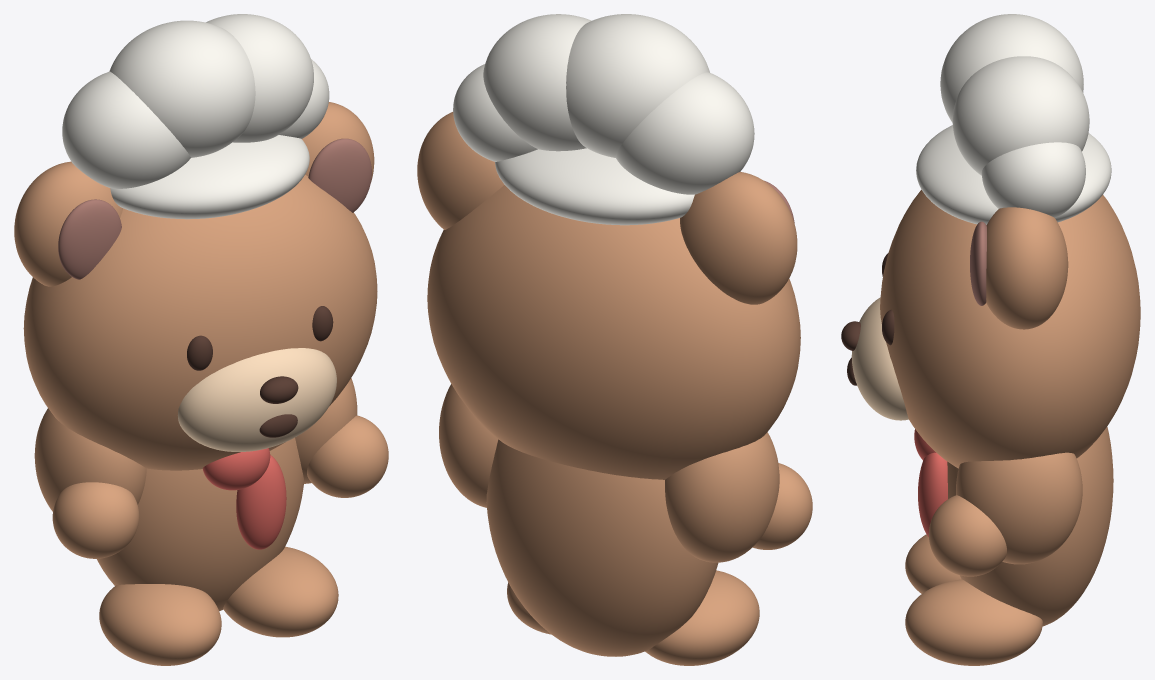
The model's file is character_study.glb.
3 renders of one model, left to right at view 1: azimuth 30°, elevation 25°; view 2: azimuth 150°, elevation 25°; view 3: azimuth 270°, elevation 25°, orthographic. The views are drawn at different scales.
Visible parts, largest first — view 1: oversized head, pear body, hat cloud.002, single broad muzzle, chef hat band, hat cloud.001, foot.001, hat cloud.003, foot, ear.001, short arm.001, paw.001 (+12 smaller); view 2: oversized head, pear body, hat cloud.002, hat cloud.001, ear.001, short arm.001, chef hat band, hat cloud.003, ear, foot.001, short arm, hat cloud (+2 smaller); view 3: oversized head, hat cloud.003, short arm, pear body, ear, foot, chef hat band, hat cloud.002, hat cloud, paw, single broad muzzle, scarf tail (+3 smaller).
Boxes of the visible parts, x1,y1,x2,y2 form: oversized head: (23,174,377,470); pear body: (97,437,303,610); hat cloud.002: (109,20,255,157); single broad muzzle: (177,348,336,451); chef hat band: (110,135,309,219); hat cloud.001: (62,71,190,188); foot.001: (99,584,221,665); hat cloud.003: (206,14,313,142); foot: (223,546,338,637); ear.001: (14,161,122,286); short arm.001: (34,408,146,511); paw.001: (52,482,139,558); oversized head: (427,185,800,479); pear body: (486,439,718,656); hat cloud.002: (566,14,709,157); hat cloud.001: (615,72,754,194); ear.001: (680,171,797,304); short arm.001: (665,432,779,562); chef hat band: (495,148,694,225); hat cloud.003: (483,14,591,151); ear: (417,112,504,229); foot.001: (645,570,759,665); short arm: (439,384,498,507); hat cloud: (453,64,537,161); oversized head: (880,189,1140,468); hat cloud.003: (952,56,1089,175); short arm: (956,452,1082,564); pear body: (947,427,1113,626); ear: (986,207,1068,329); foot: (905,579,1042,665); chef hat band: (916,125,1111,224); hat cloud.002: (940,14,1083,122); hat cloud: (981,142,1085,217); paw: (928,495,1006,576); single broad muzzle: (851,297,908,420); scarf tail: (918,452,947,537).
Size of the model in its own units: 2.22 by 3.65 by 1.65.
